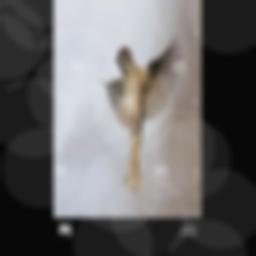Sparrow: (97, 32, 180, 193)
